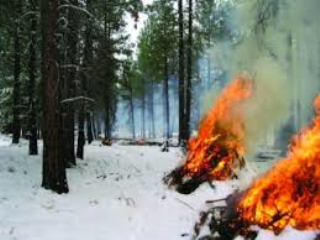fire: (198, 136, 320, 232), (173, 76, 248, 181)
smoke: (242, 15, 313, 142)
